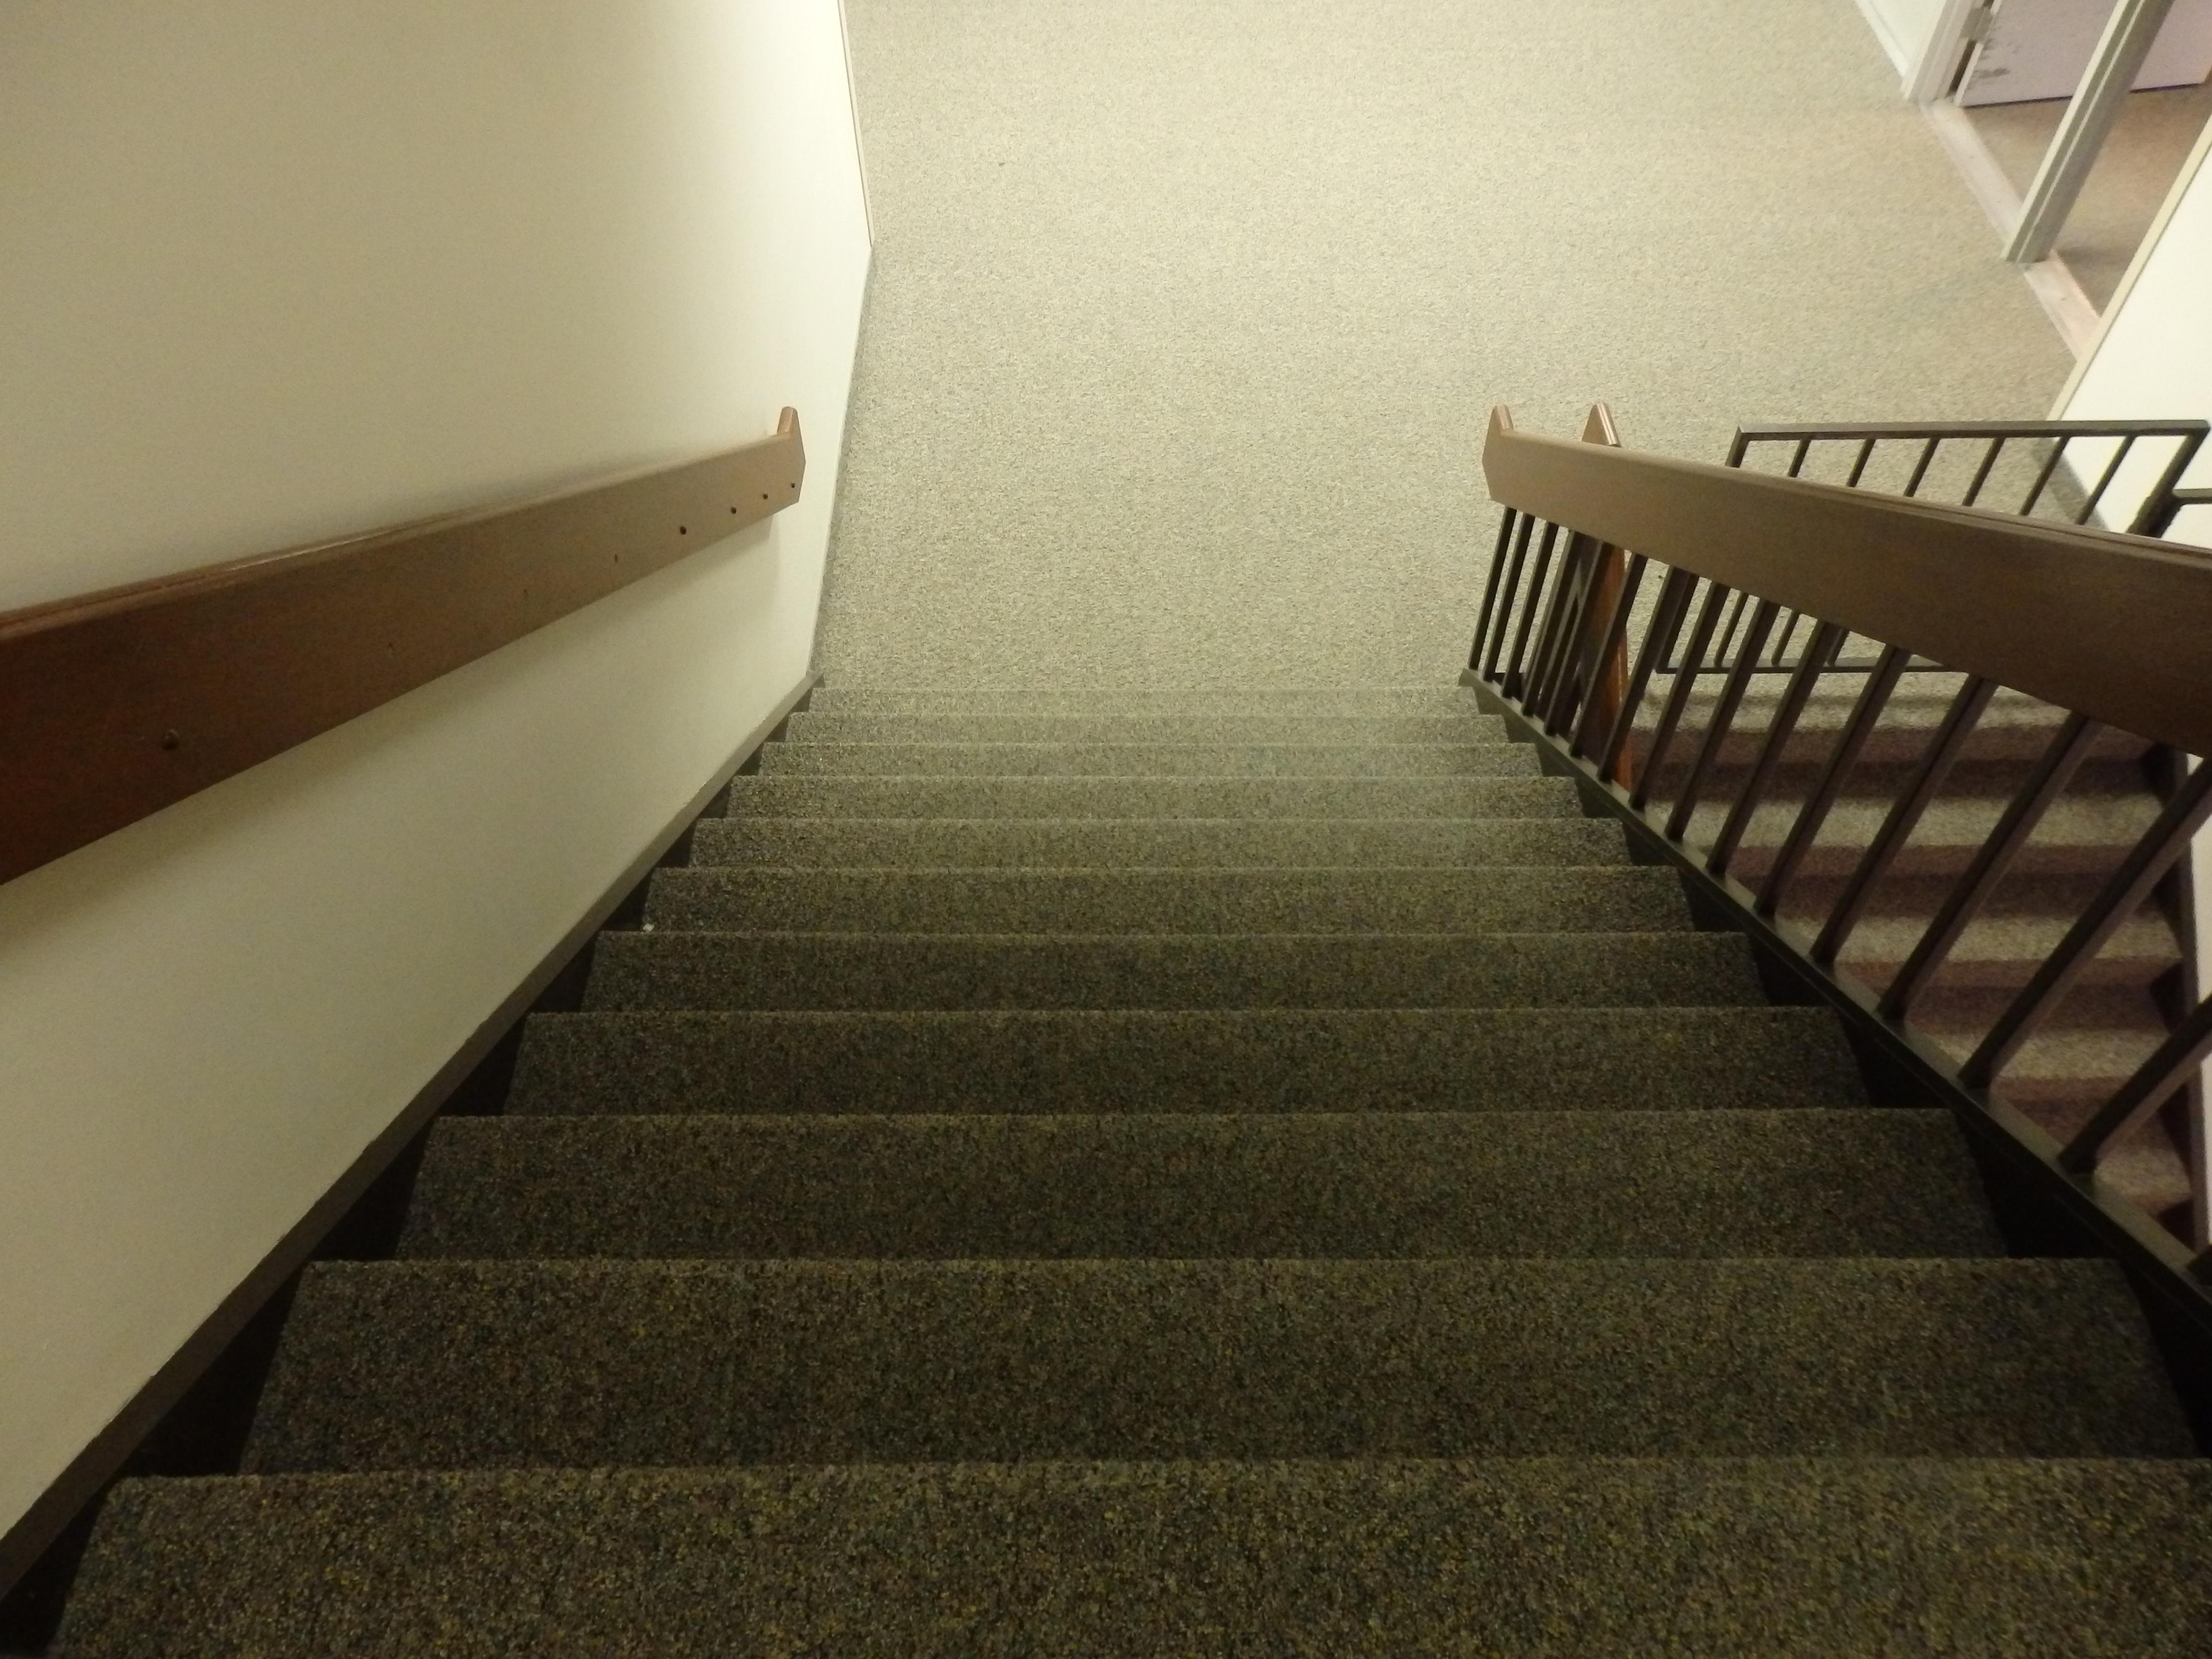stairs_down: (181, 685, 2156, 1521)
